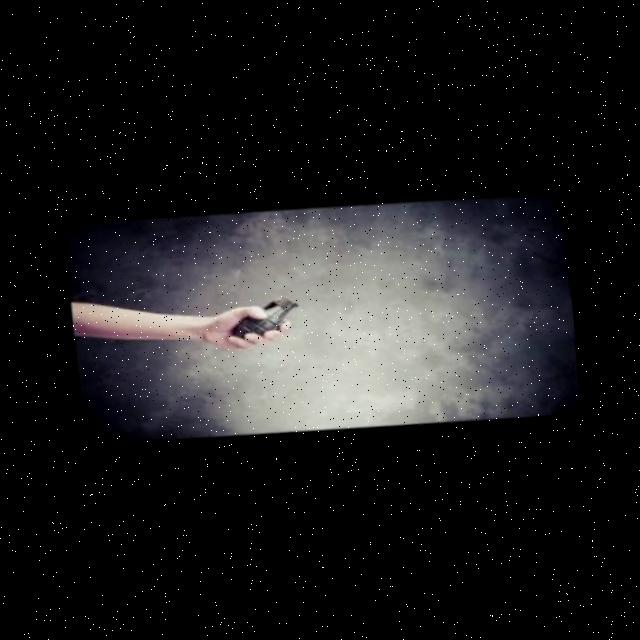grenade: (218, 284, 309, 345)
